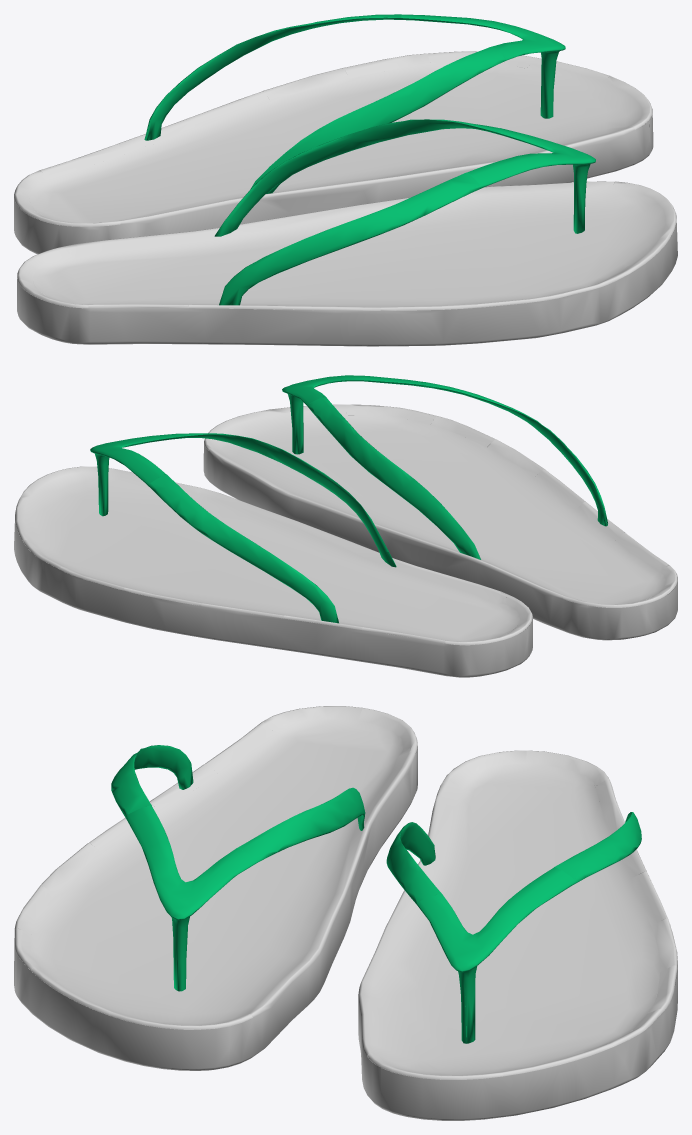
Rendered from flipflops.fbx.
3 renders of one model, top to bottom at view 1: azimuth 30°, elevation 25°; view 2: azimuth 150°, elevation 25°; view 3: azimuth 270°, elevation 25°, orthographic. The views are drawn at different scales.
Parts seen in each view (by area): view 1: flops_b; view 2: flops_b; view 3: flops_b.
Boxes of the visible parts, left/top/right/bottom form: flops_b: left=14, top=14, right=677, bottom=346; flops_b: left=14, top=375, right=677, bottom=677; flops_b: left=14, top=706, right=677, bottom=1120.
Bounding box in the file's own units: 2080 × 394 × 1564.
